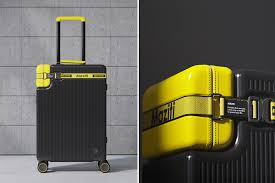suitcase: (141, 65, 275, 183), (29, 17, 113, 173)
